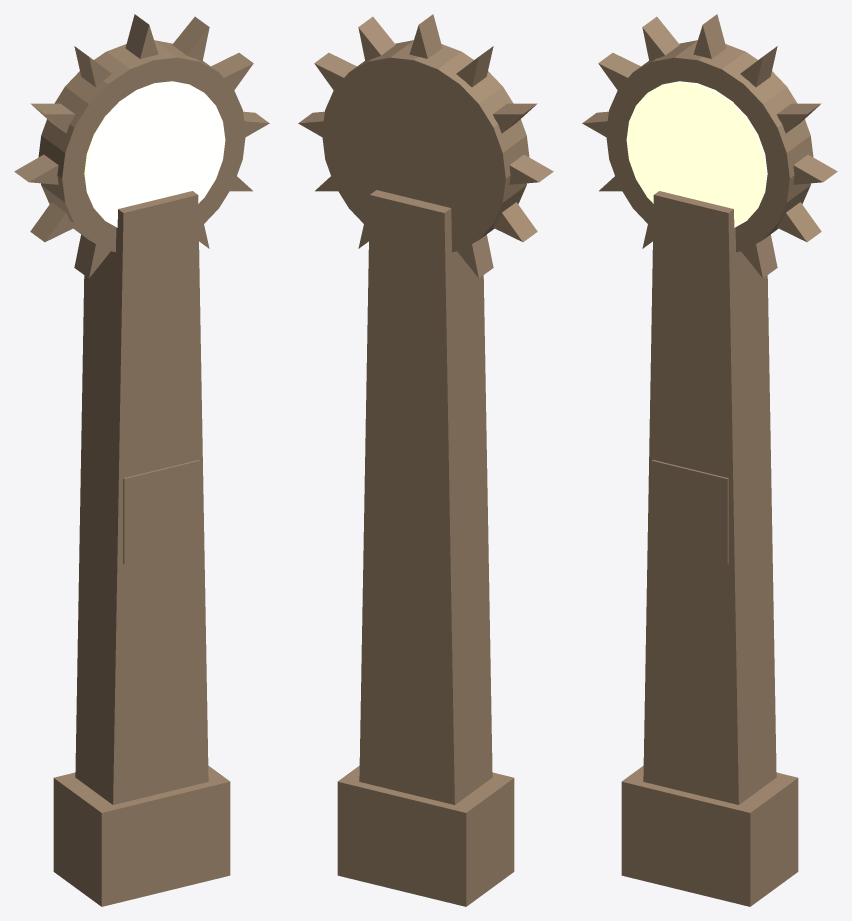
The model's file is sun.glb.
3 views of the same model, side by side, from view 1: azimuth 30°, elevation 25°; view 2: azimuth 150°, elevation 25°; view 3: azimuth 330°, elevation 25° (orthographic).
Parts seen in each view (by area): view 1: sun-totem; view 2: sun-totem; view 3: sun-totem.
Boxes of the visible parts, bbox=[...] form: sun-totem: bbox=[14, 14, 269, 906]; sun-totem: bbox=[298, 14, 553, 906]; sun-totem: bbox=[582, 14, 837, 906].
Size of the model in its own units: 0.399 by 1.35 by 0.138.
